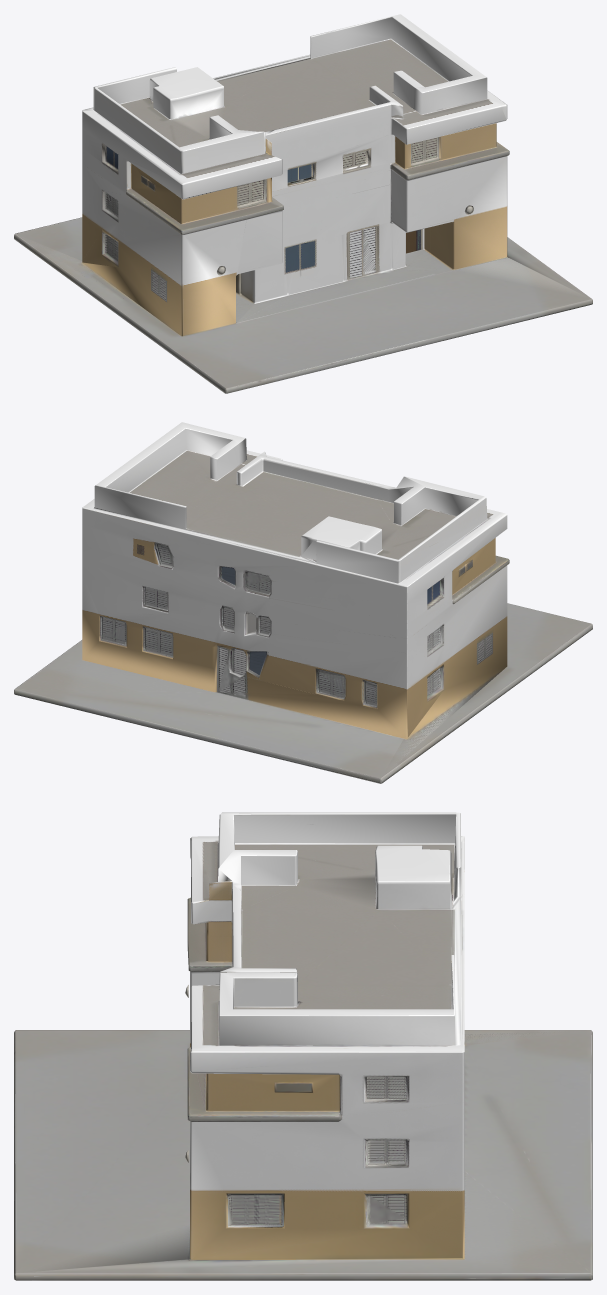
Rendered from bld_556597976.glb.
The picture shows the model from 3 angles, top to bottom: view 1: azimuth 30°, elevation 25°; view 2: azimuth 150°, elevation 25°; view 3: azimuth 270°, elevation 25°; orthographic projection. The views are drawn at different scales.
Size of the model in its own units: 1.91 by 0.8924 by 1.91.
Materials: 1 (1 with a texture image).
